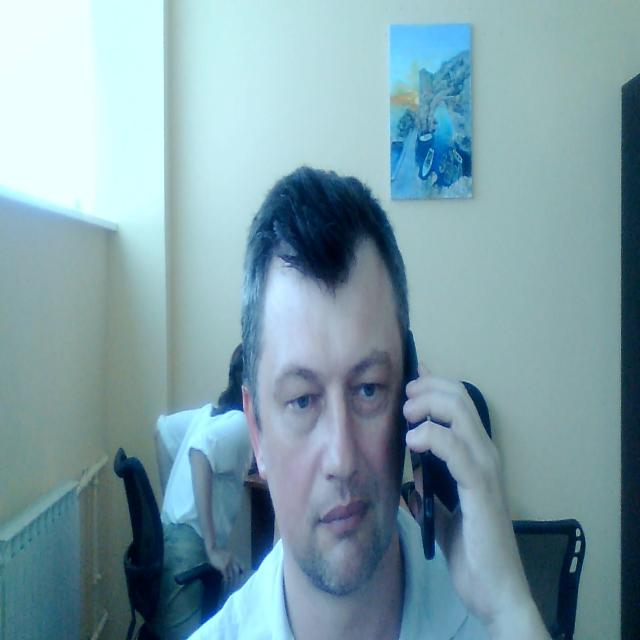phone: (403, 326, 437, 560)
